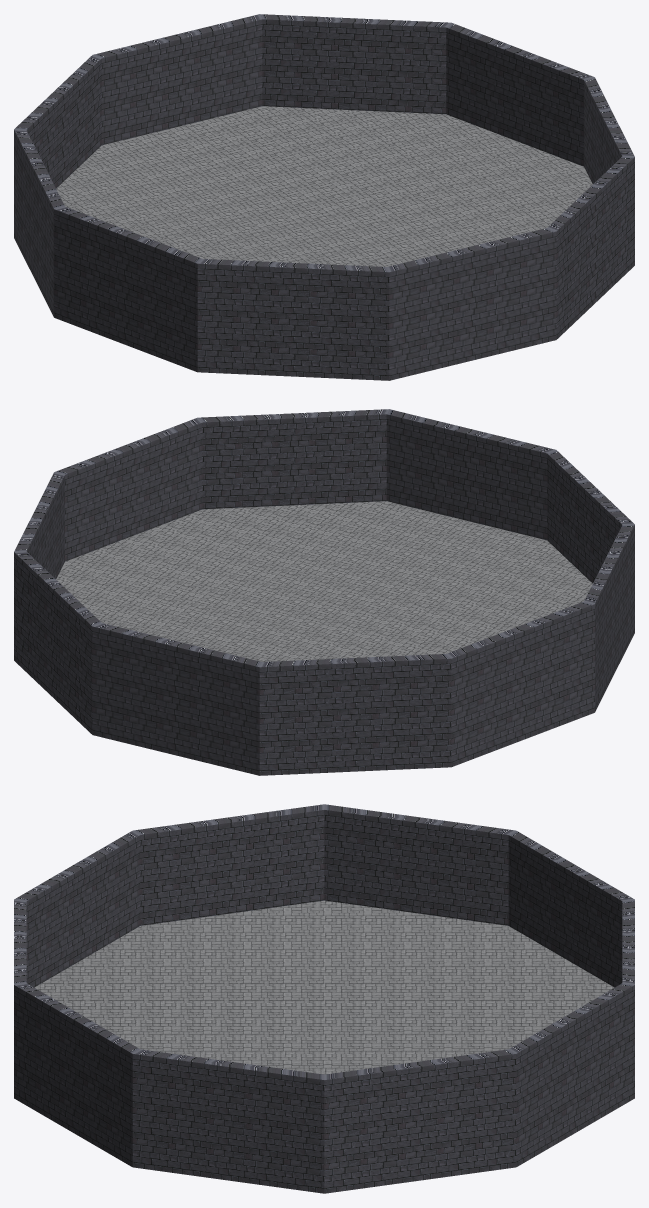
The model's file is CMSC425 Stage Model.fbx.
3 views of the same model, one above another, from view 1: azimuth 30°, elevation 25°; view 2: azimuth 150°, elevation 25°; view 3: azimuth 270°, elevation 25° (orthographic). The views are drawn at different scales.
Parts seen in each view (by area): view 1: room; view 2: room; view 3: room.
Part boxes in pixels (left/top/right/bottom): room: left=14, top=14, right=634, bottom=380; room: left=14, top=409, right=634, bottom=775; room: left=14, top=804, right=634, bottom=1193.
Size of the model in its own units: 208 by 40 by 198.
Materials: 2 (2 with a texture image).
